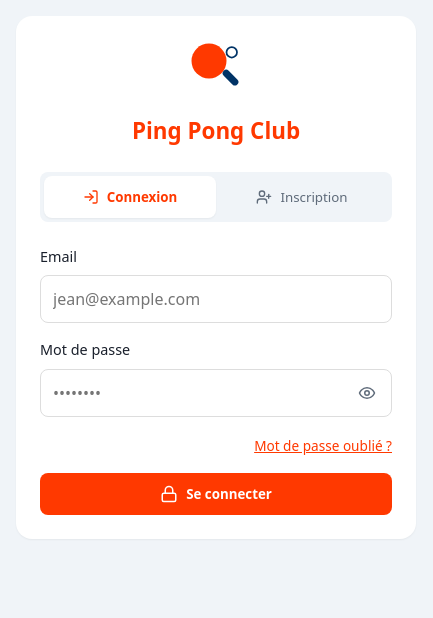
Login › affiche une erreur si email vide au submit login
Type "password123" into the password field with placeholder "••••••••" at (216, 393), box x1=40 y1=369 x2=392 y2=417
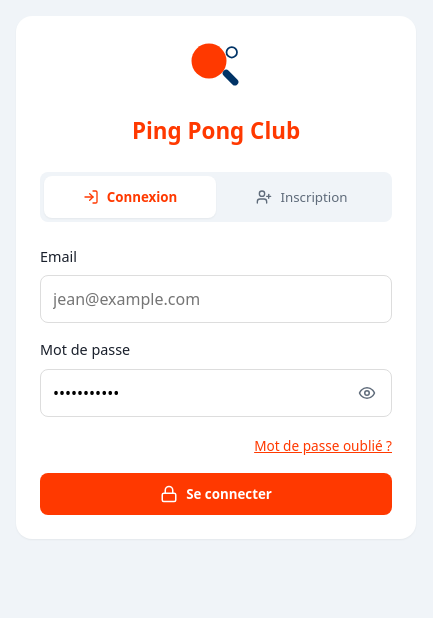
Submit the form, box x1=40 y1=246 x2=392 y2=515
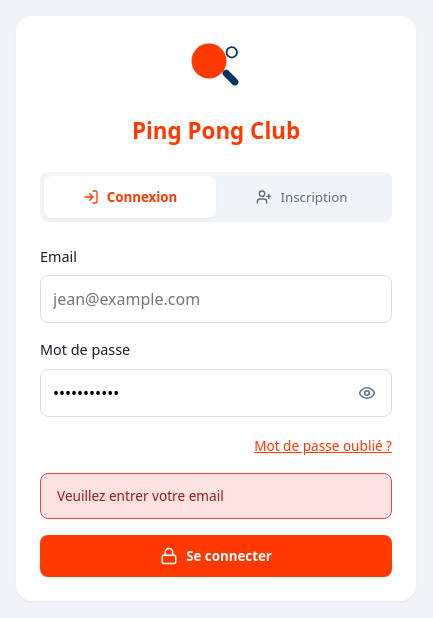
Check: the text "Veuillez entrer votre email" is shown, box x1=40 y1=473 x2=392 y2=519
